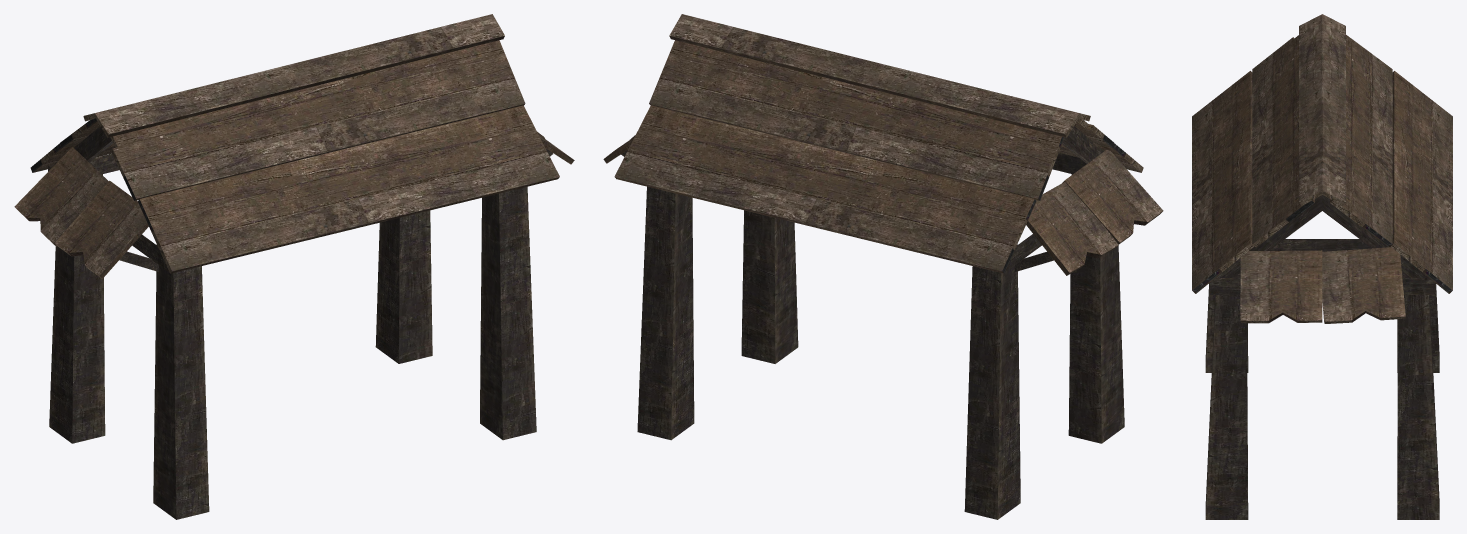
File: eso_gu2_merchantstall1-transformed.glb
The picture shows the model from 3 angles, left to right: view 1: azimuth 30°, elevation 25°; view 2: azimuth 150°, elevation 25°; view 3: azimuth 270°, elevation 25°; orthographic projection. The views are drawn at different scales.
Parts seen in each view (by area): view 1: default; view 2: default; view 3: default.
Part boxes in pixels (<box>): default: <box>14,14,574,519</box>; default: <box>603,14,1163,519</box>; default: <box>1192,14,1452,519</box>.
Size of the model in its own units: 6.26 by 4.61 by 3.22.
1 material, 1 textured.
